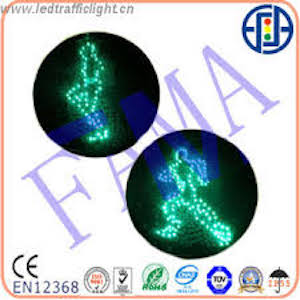green: (154, 141, 235, 251), (63, 41, 125, 144)
